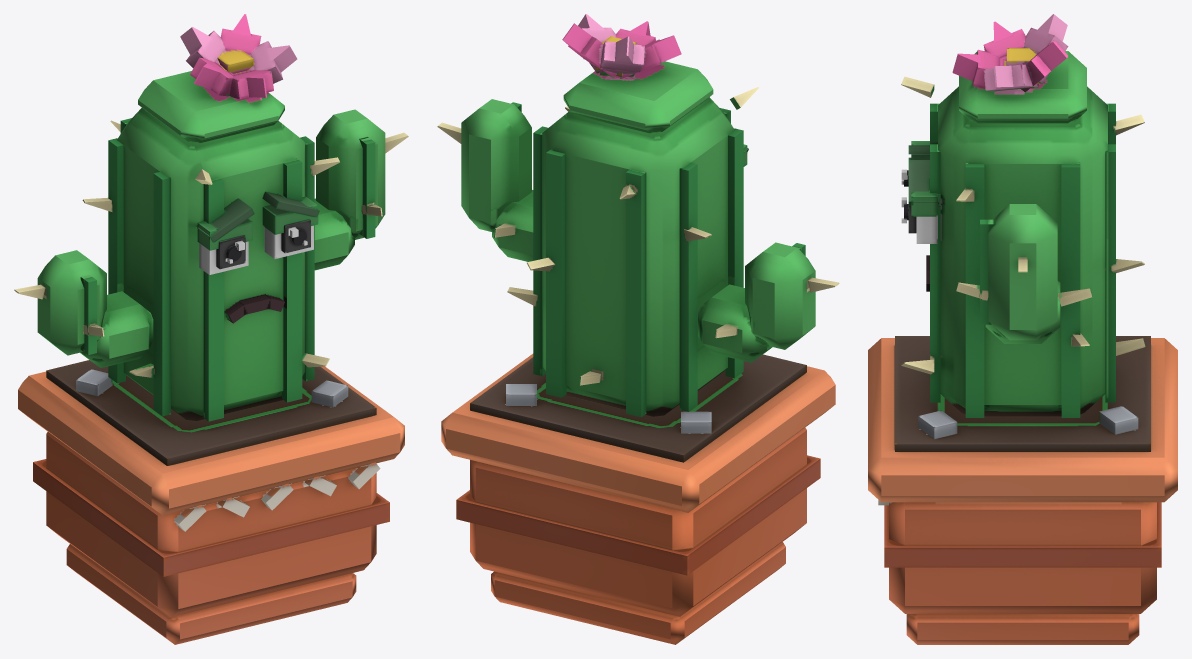
Rendered from CactusRonchon_Rig.fbx.
The picture shows the model from 3 angles, left to right: view 1: azimuth 30°, elevation 25°; view 2: azimuth 150°, elevation 25°; view 3: azimuth 270°, elevation 25°; orthographic projection. The views are drawn at different scales.
Visible parts, largest first — view 1: Body, ArmR, ArmL, Flower; view 2: Body, ArmR, ArmL, Flower; view 3: Body, ArmL, Flower.
Boxes of the visible parts, x1,y1,x2,y2 form: Body: [18, 71, 404, 644]; ArmR: [14, 250, 153, 367]; ArmL: [314, 109, 408, 270]; Flower: [180, 14, 297, 99]; Body: [441, 61, 835, 644]; ArmR: [698, 242, 839, 362]; ArmL: [437, 99, 533, 261]; Flower: [562, 14, 681, 78]; Body: [868, 51, 1177, 644]; ArmL: [956, 204, 1092, 343]; Flower: [952, 14, 1068, 92].
Bounding box in the file's own units: 4.44 × 6 × 2.89.
Materials: 1 (1 with a texture image).
